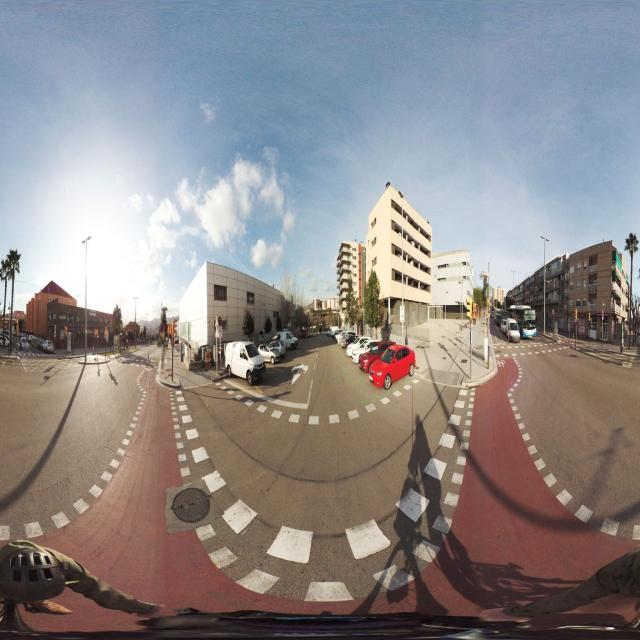forb_stopping: (218, 316, 222, 327), (160, 323, 164, 333), (602, 311, 604, 317)
forb_waiting: (552, 315, 555, 322)
